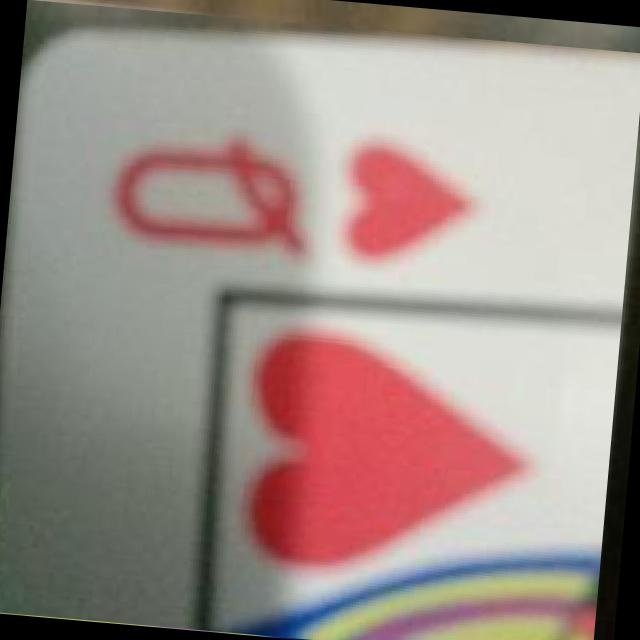Queen of hearts: (0, 30, 640, 640)
